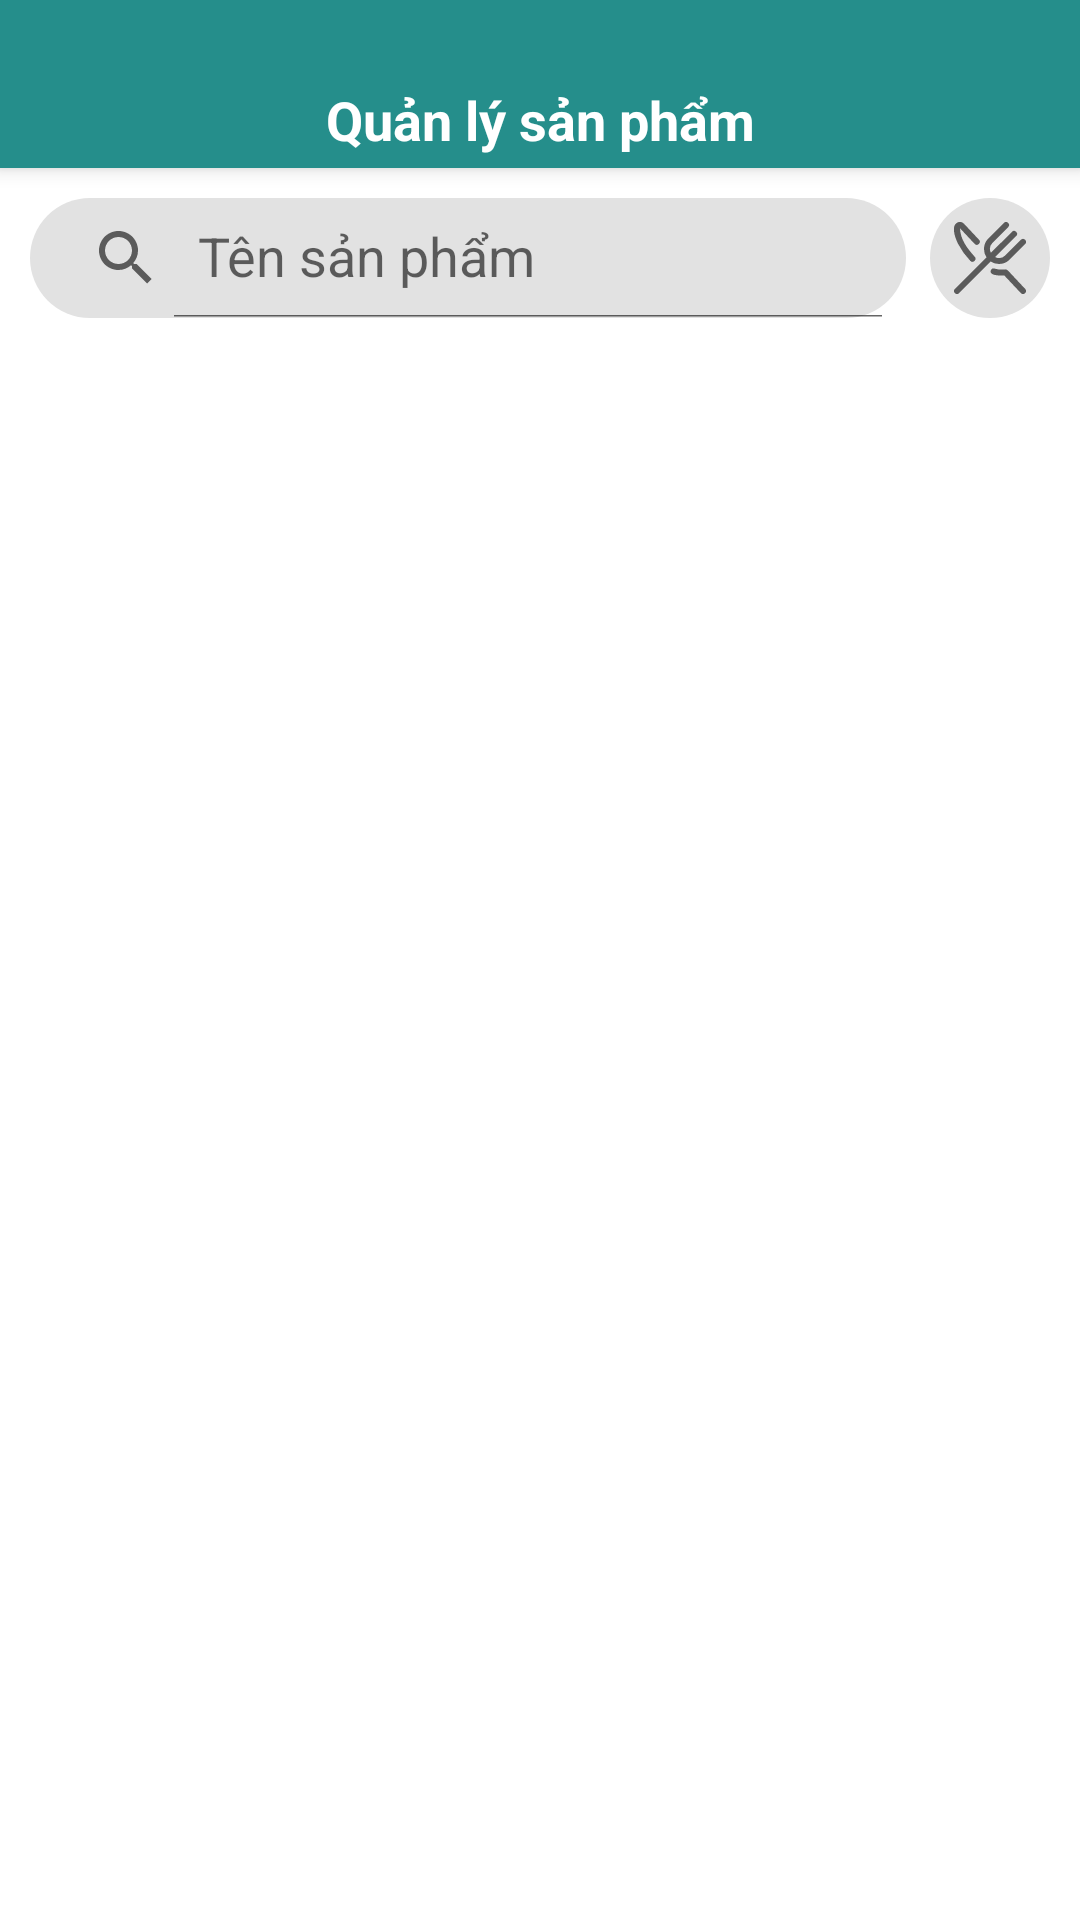

Named icons in this screenshot (1080x1920) and their centers, [x,y]:
food: [990,258]
